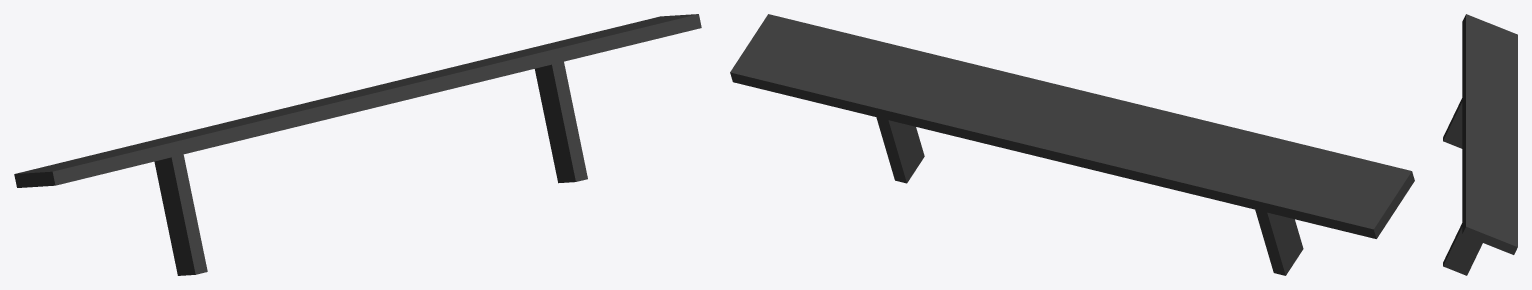
File: spoiler1.glb
3 renders of one model, left to right at view 1: azimuth 30°, elevation 25°; view 2: azimuth 150°, elevation 25°; view 3: azimuth 270°, elevation 25°, orthographic. The views are drawn at different scales.
Parts seen in each view (by area): view 1: spoiler1; view 2: spoiler1; view 3: spoiler1.
Boxes of the visible parts, x1,y1,x2,y2 form: spoiler1: (14,14,701,275); spoiler1: (730,14,1414,275); spoiler1: (1443,14,1517,275).
Size of the model in its own units: 2.92 by 0.5853 by 0.4343.
1 material, 1 textured.
